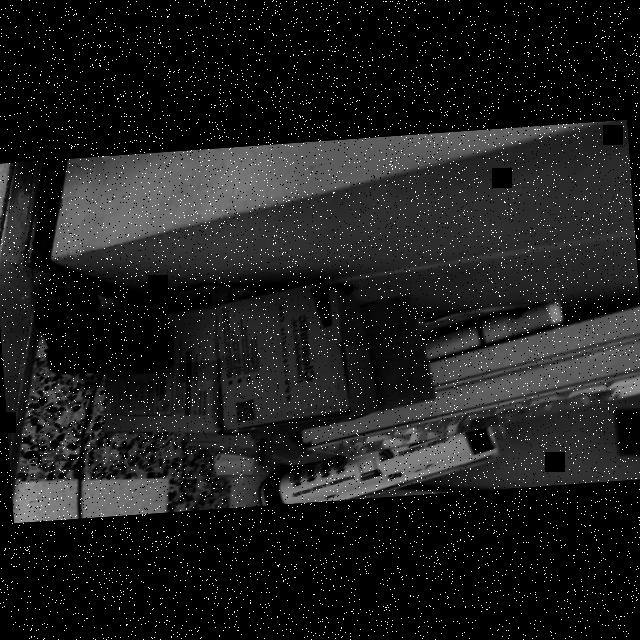cardboard_box: (210, 274, 442, 440), (90, 305, 233, 441)
